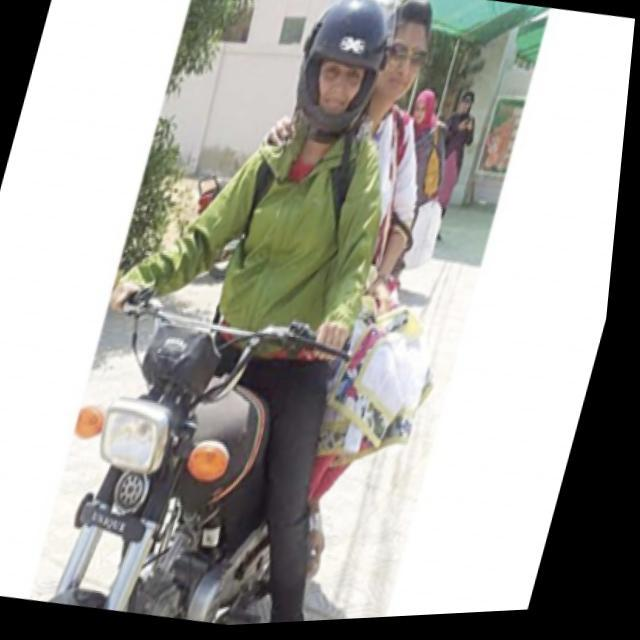Helmet: (293, 0, 384, 146)
Nonhelmet: (355, 0, 443, 115)
